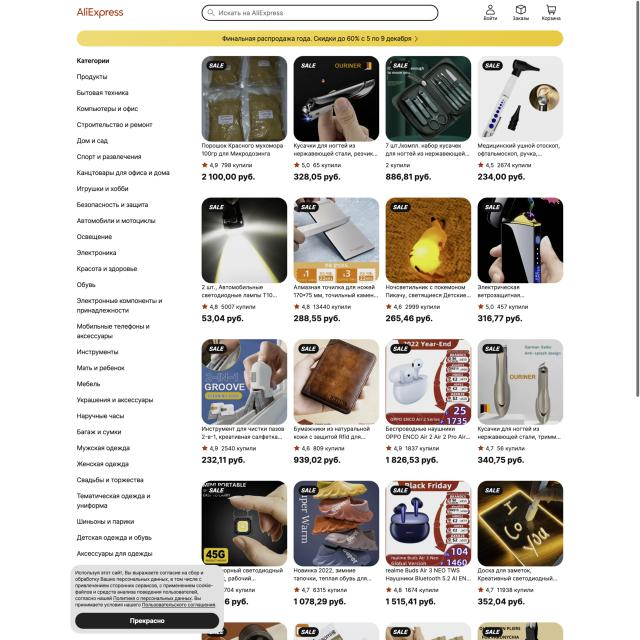CheckBox: (77, 30, 563, 47), (75, 612, 219, 630), (113, 595, 191, 602), (141, 602, 216, 609), (512, 2, 531, 22), (541, 3, 562, 21), (482, 2, 499, 22)
CheckedTextView: (200, 3, 438, 23)
Input field: (384, 284, 472, 300), (292, 284, 380, 298)
RadioButton: (206, 60, 227, 71), (297, 202, 319, 212), (391, 60, 412, 70), (391, 202, 412, 212), (482, 61, 503, 70)
TextView: (193, 54, 571, 472)
bag: (1, 0, 636, 52)
breadcrumbs: (76, 56, 111, 64)
carousel: (515, 4, 527, 15), (545, 4, 557, 15), (485, 4, 495, 15), (207, 9, 215, 17), (293, 303, 300, 310), (414, 34, 418, 45)
copy: (201, 56, 287, 142), (293, 56, 379, 142), (294, 197, 379, 283)
data feed: (221, 34, 412, 44), (129, 617, 166, 625), (512, 16, 530, 21), (482, 16, 499, 21), (542, 16, 562, 20)
date picker: (72, 6, 126, 20)
decoration: (77, 71, 173, 558)
footer: (218, 9, 284, 18)
header: (70, 564, 224, 634)
